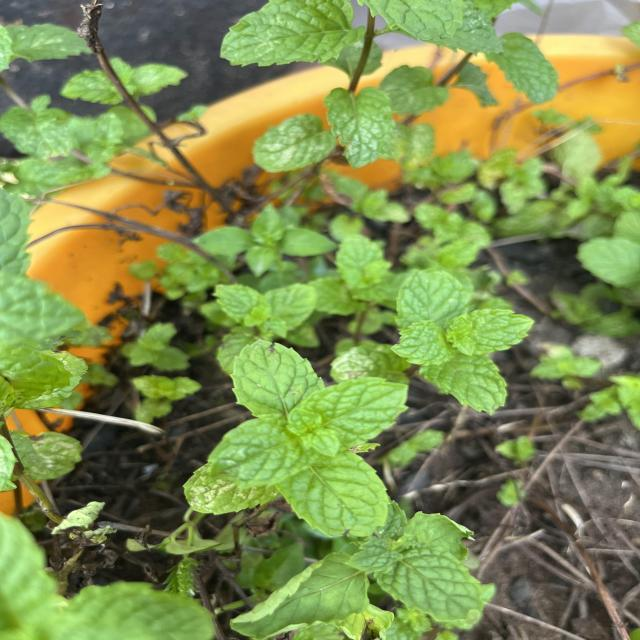Mentha spicata: (218, 0, 368, 69), (274, 452, 394, 538), (374, 544, 486, 622), (228, 337, 326, 418), (463, 308, 535, 357)
